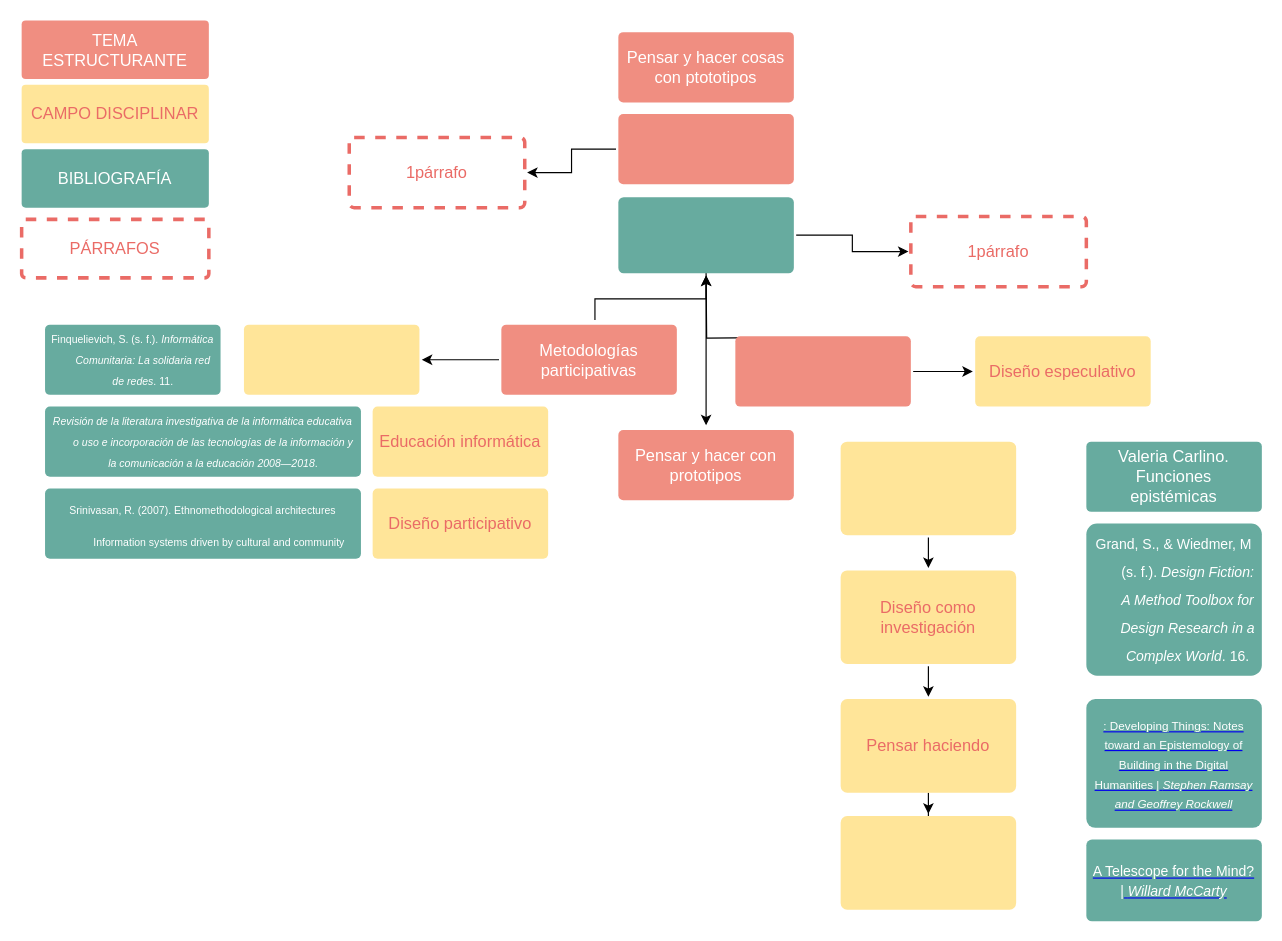
Image size: 1282x941. Some labels were removed from this diagram. Here are the shapes that lost their labels. From the top down, the box of each, then its label:
(618, 113, 793, 184): Introducción
(618, 197, 793, 273): Perspectivas metodológicas
(243, 324, 419, 394): Informática comunitaria
(735, 336, 910, 406): Metodologías del Diseño
(840, 441, 1016, 535): Función epistémica de la escritura
(840, 815, 1016, 909): Acercarse en el hacer al pensar
